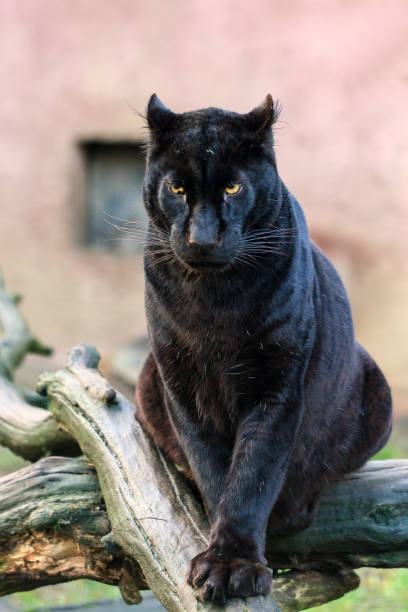panther: (120, 78, 303, 304)
